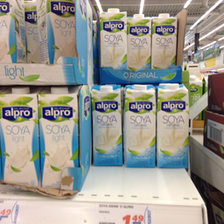milk: (38, 86, 81, 192), (1, 87, 42, 191), (92, 83, 126, 168), (158, 83, 189, 170), (125, 85, 157, 169), (38, 1, 78, 68), (101, 7, 129, 71), (151, 14, 178, 71), (128, 11, 151, 70)
